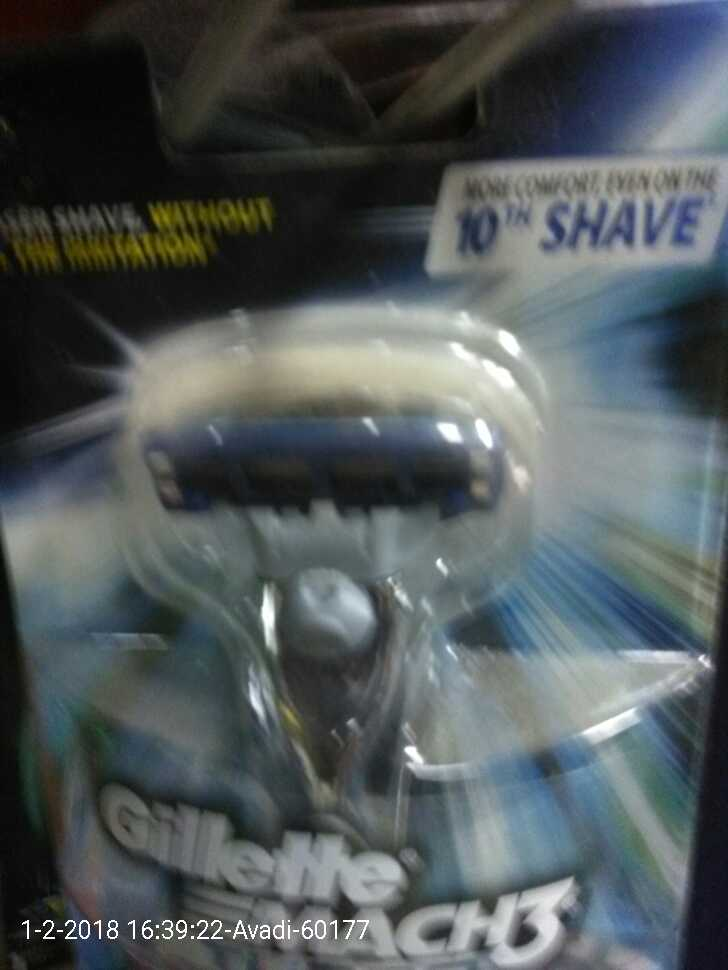beauty: (74, 286, 576, 970)
